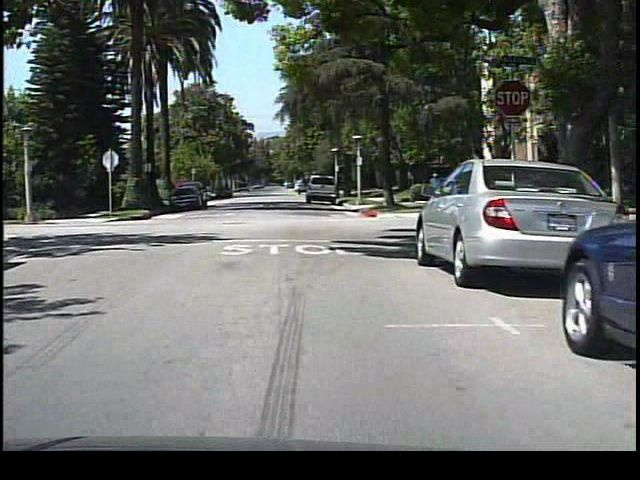person: (423, 165, 446, 213)
